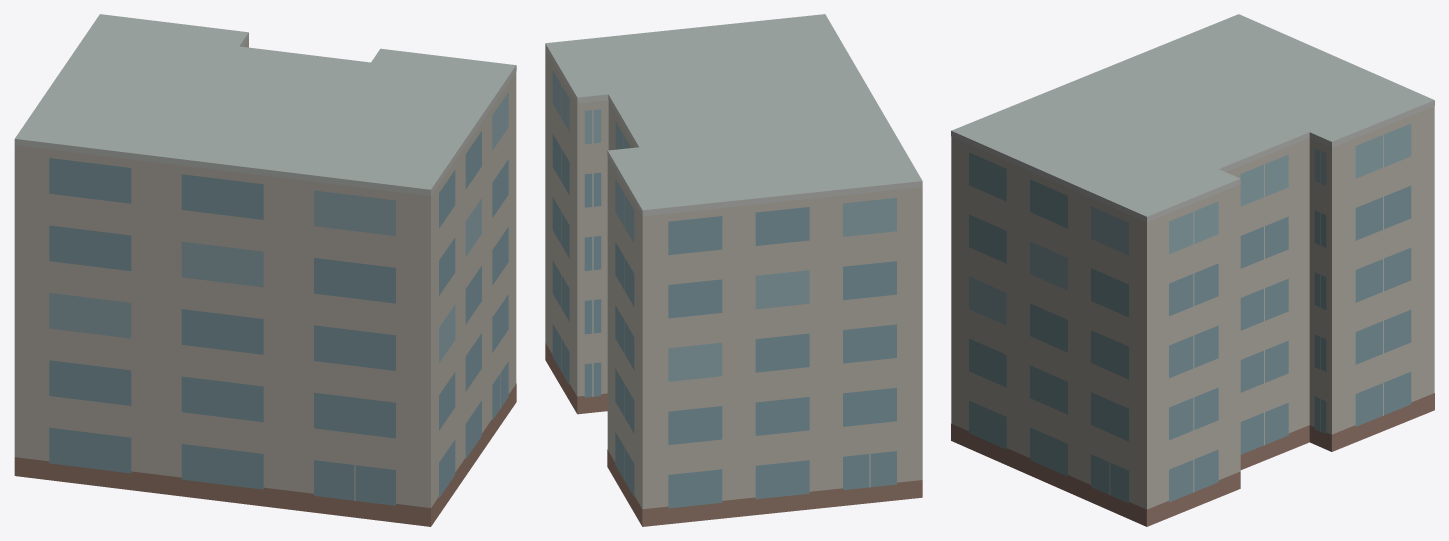
Rendered from residential-313b940a-7379-4159-8710-d98c35add42d.glb.
3 views of the same model, side by side, from view 1: azimuth 30°, elevation 25°; view 2: azimuth 150°, elevation 25°; view 3: azimuth 270°, elevation 25° (orthographic). The views are drawn at different scales.
Parts seen in each view (by area): view 1: residential-313b940a-7379-4159-8710-d98c35add42d.tmp; view 2: residential-313b940a-7379-4159-8710-d98c35add42d.tmp; view 3: residential-313b940a-7379-4159-8710-d98c35add42d.tmp.
Boxes of the visible parts, <box> form: residential-313b940a-7379-4159-8710-d98c35add42d.tmp: <box>14,14,516,526</box>; residential-313b940a-7379-4159-8710-d98c35add42d.tmp: <box>545,14,922,526</box>; residential-313b940a-7379-4159-8710-d98c35add42d.tmp: <box>951,14,1434,526</box>.
Bounding box in the file's own units: 18.38 × 13.1 × 18.52.
